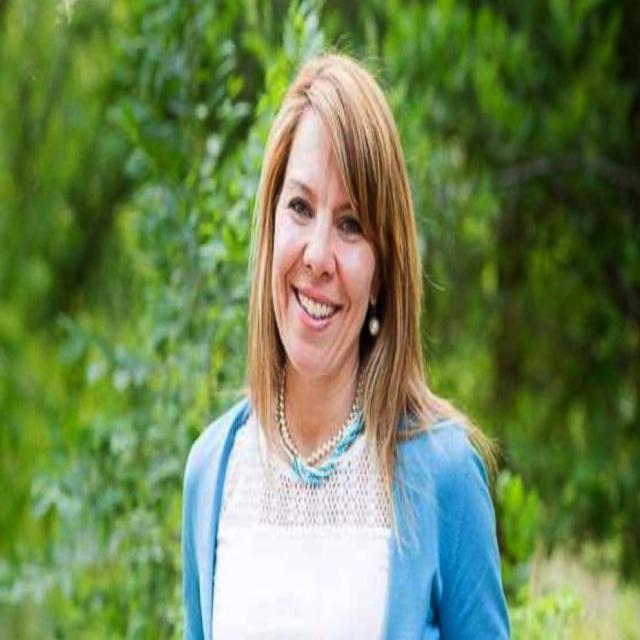mobile_phonerotation: (179, 49, 512, 636)
